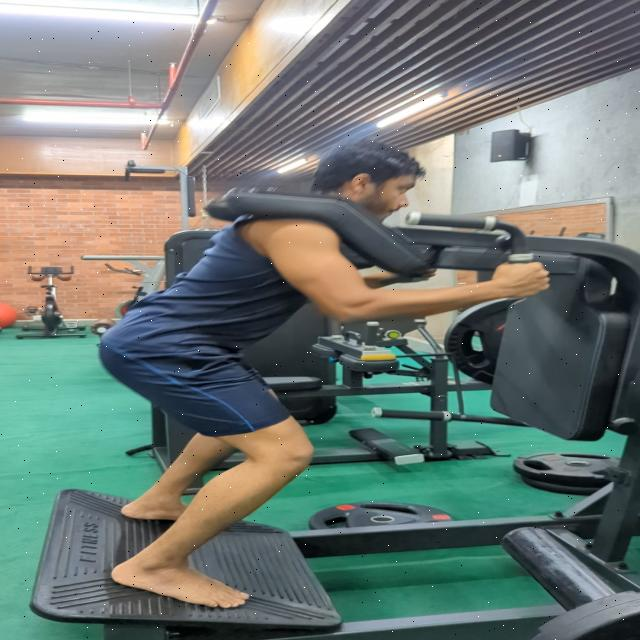Normal_SquatsWithBarbell: (81, 112, 640, 640)
